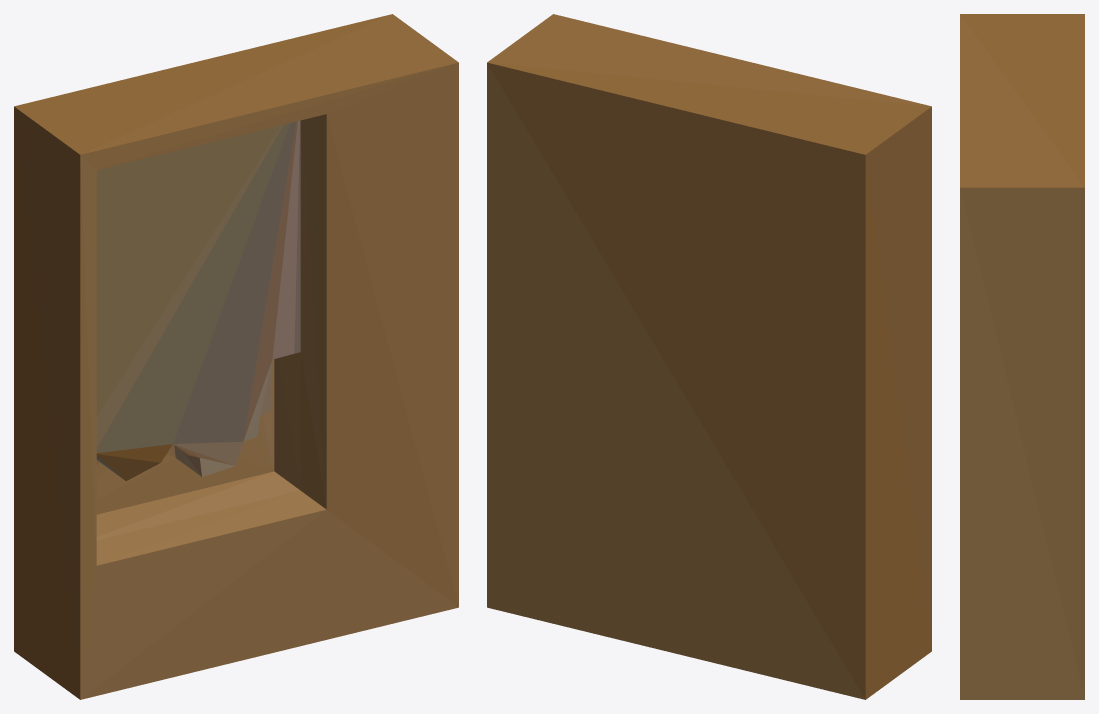
Rendered from hs_wardrobe.glb.
3 renders of one model, left to right at view 1: azimuth 30°, elevation 25°; view 2: azimuth 150°, elevation 25°; view 3: azimuth 270°, elevation 25°, orthographic. The views are drawn at different scales.
Parts seen in each view (by area): view 1: Wardrobe; view 2: Wardrobe; view 3: Wardrobe.
Boxes of the visible parts, x1,y1,x2,y2 form: Wardrobe: (14,14,458,699); Wardrobe: (487,14,931,699); Wardrobe: (960,14,1084,699).
Bounding box in the file's own units: 1.4 × 1.92 × 0.4243.
